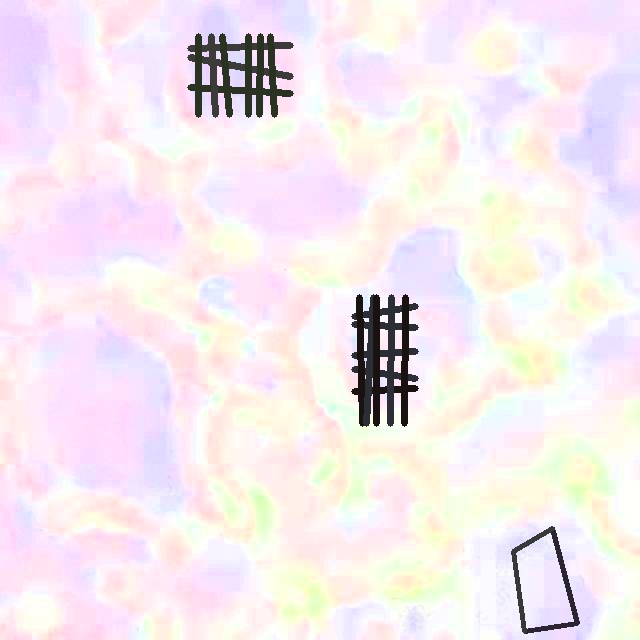close: (351, 294, 418, 426), (511, 526, 579, 633)
open: (188, 33, 292, 116)
